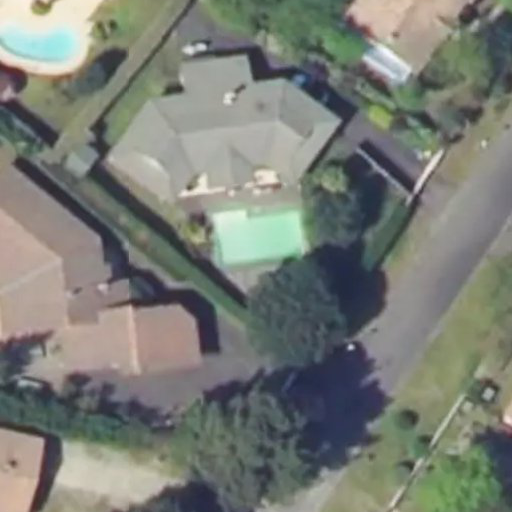pool: (210, 217, 301, 259)
